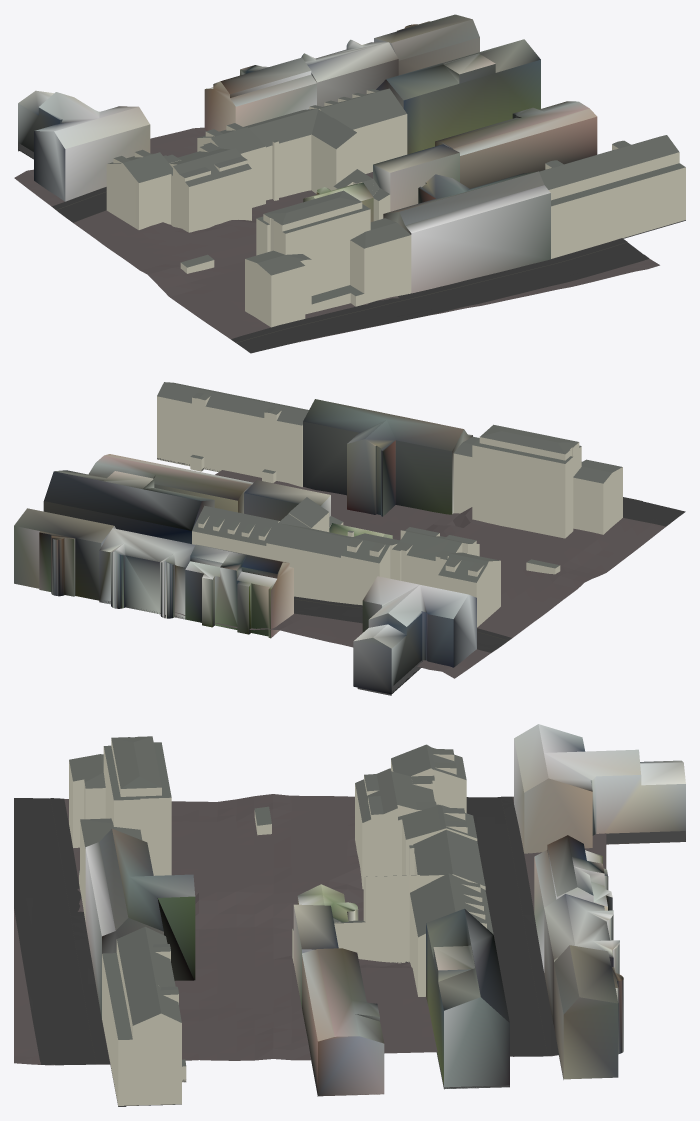
3 views of the same model, one above another, from view 1: azimuth 30°, elevation 25°; view 2: azimuth 150°, elevation 25°; view 3: azimuth 270°, elevation 25° (orthographic). The views are drawn at different scales.
Visible parts, largest first — view 1: c_m04_p08; view 2: c_m04_p08; view 3: c_m04_p08.
Part boxes in pixels (left/top/right/bottom): c_m04_p08: left=14, top=14, right=685, bottom=353; c_m04_p08: left=14, top=382, right=685, bottom=695; c_m04_p08: left=14, top=724, right=685, bottom=1106.
Bounding box in the file's own units: 149 × 29.88 × 145.
